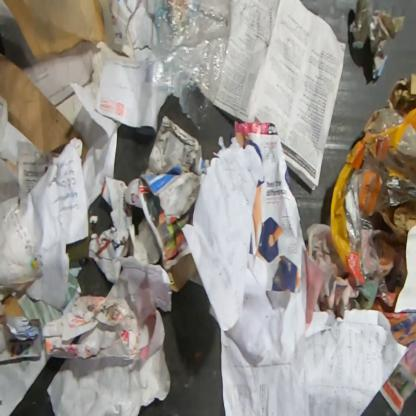cardboard: (0, 52, 92, 167), (139, 113, 211, 219), (40, 293, 140, 361), (2, 0, 107, 62), (108, 0, 158, 62), (393, 224, 416, 313), (379, 200, 415, 238), (166, 252, 198, 292), (386, 71, 415, 113)
soft_plastic: (329, 106, 415, 306), (145, 0, 237, 134)
